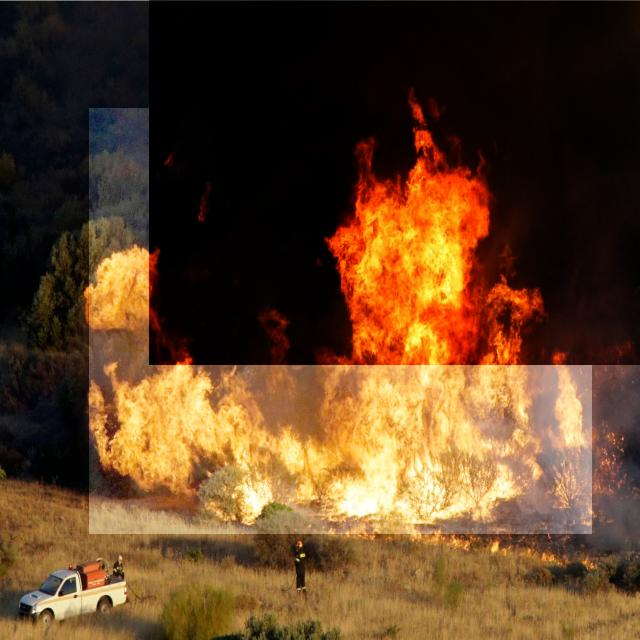Fire: (89, 108, 592, 534)
Smoke: (149, 0, 640, 365)
